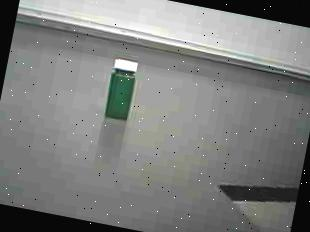Bottle C: (94, 51, 146, 127)
